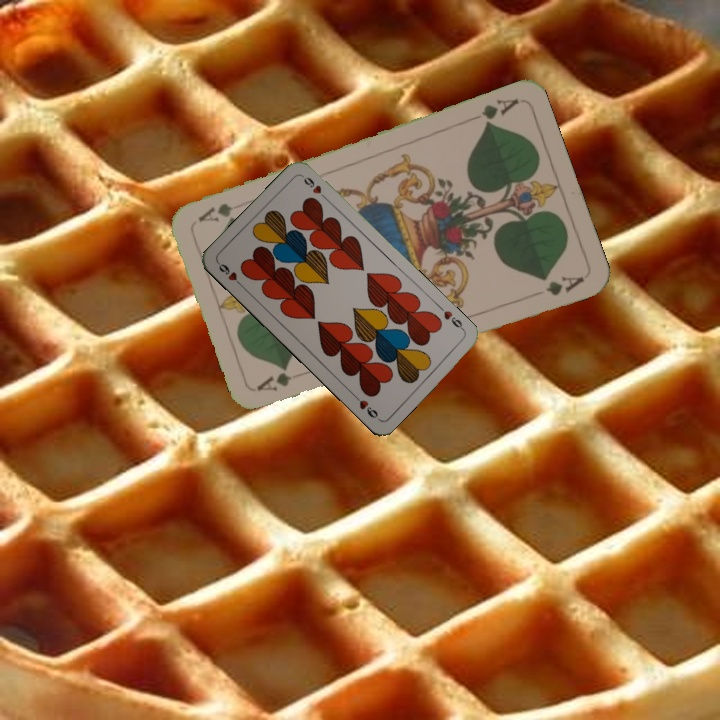GA: (477, 94, 522, 129), (253, 370, 294, 394)
H9: (214, 258, 247, 290), (435, 302, 468, 334)
